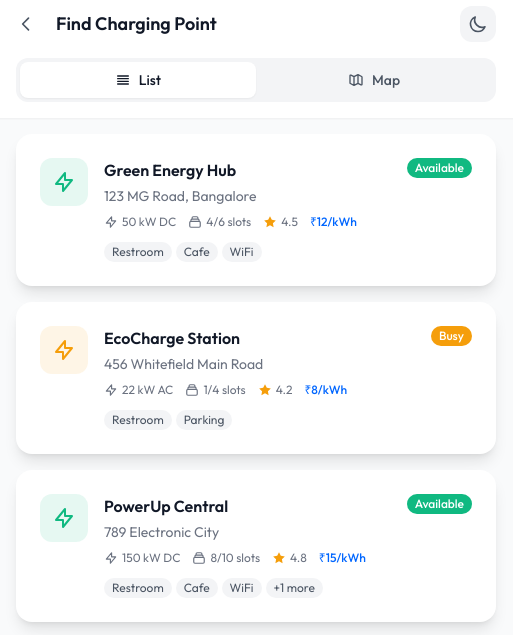
Test: FindCPO Component › can switch between list and map view
This screenshot has width=513, height=635.
Note: Click on Map button
What coordinates should you click on to do the following:
click the button "Map"
I would click on:
 (374, 80)
Its box is [256,62,492,98].
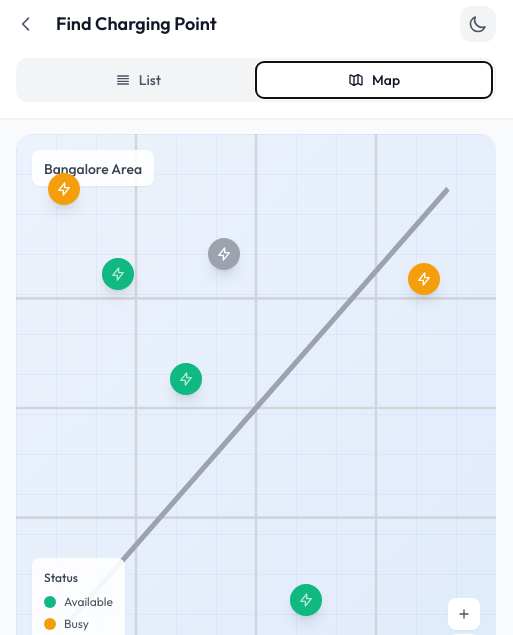
Result: the text "Status" is shown at [44,570,78,585]
Result: the text "Bangalore Area" is shown at [44,160,142,178]
